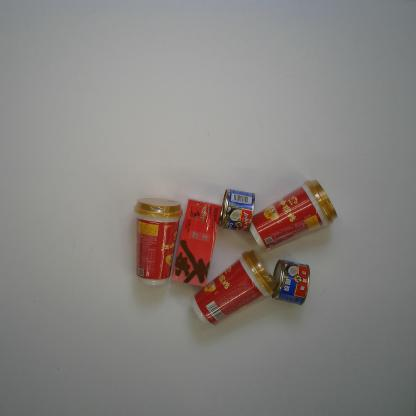Canned Food: (271, 259, 311, 305), (219, 187, 256, 234)
Instant Drink: (188, 249, 276, 328), (249, 178, 339, 251), (171, 199, 223, 288), (133, 197, 183, 286)
